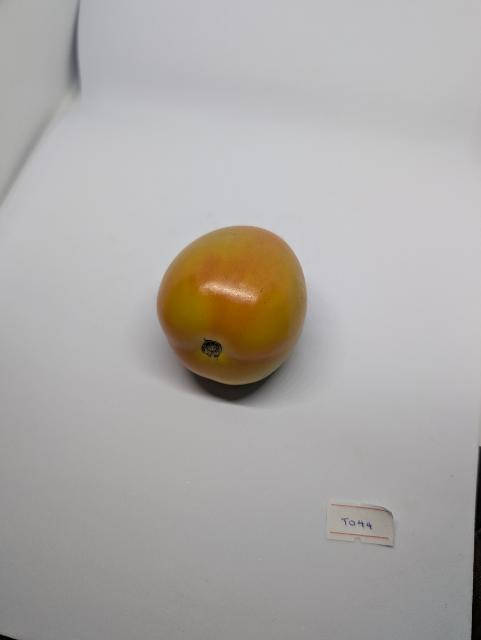turning: (148, 214, 315, 398)
